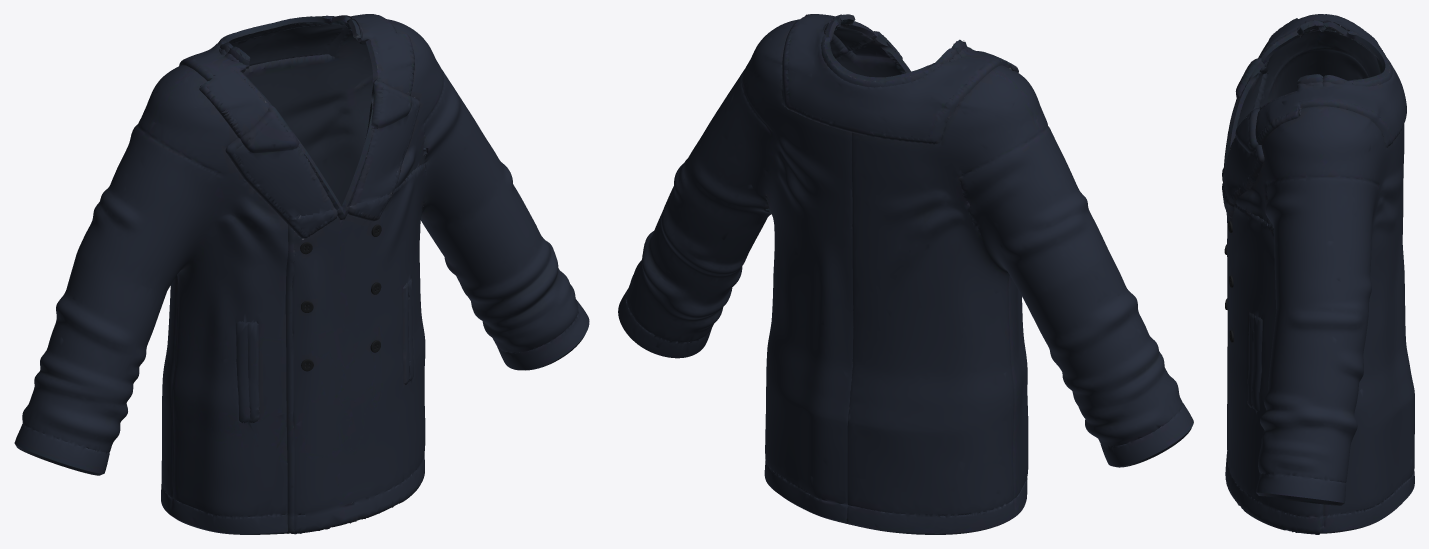
Rendered from 05_chaqueton_pbr.glb.
3 renders of one model, left to right at view 1: azimuth 30°, elevation 25°; view 2: azimuth 150°, elevation 25°; view 3: azimuth 270°, elevation 25°, orthographic. The views are drawn at different scales.
Parts seen in each view (by area): view 1: Camiseta PBR, Botones; view 2: Camiseta PBR; view 3: Camiseta PBR.
Boxes of the visible parts, bbox=[...] form: Camiseta PBR: bbox=[14, 14, 589, 534]; Botones: bbox=[300, 224, 381, 371]; Camiseta PBR: bbox=[618, 14, 1193, 534]; Camiseta PBR: bbox=[1222, 14, 1414, 534].
Bounding box in the file's own units: 1.06 × 0.8289 × 0.3351.
2 materials, 1 textured.
